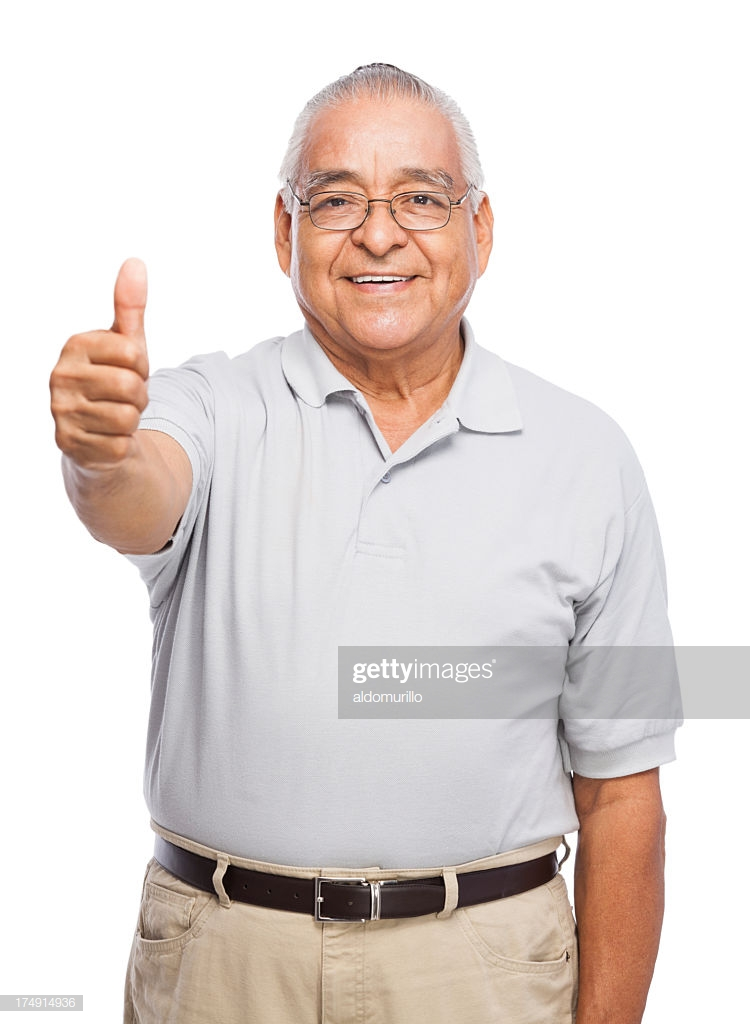thumbsup: (47, 255, 151, 465)
